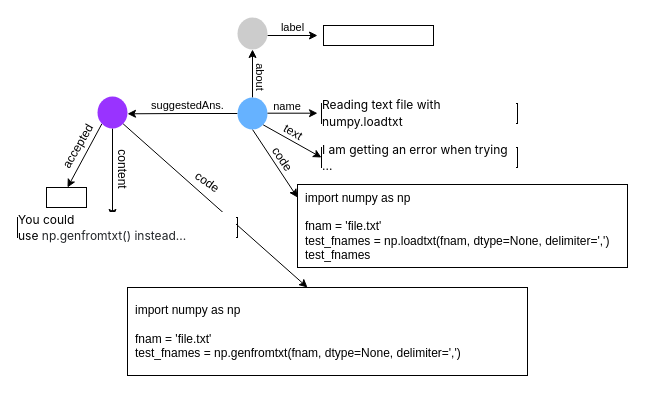
Image size: 645x393. Some labels were removed from this diagram. Each missing label, with the box of its shape:
numpy.loadtxt: (322, 24, 434, 46)
True: (46, 186, 86, 208)
